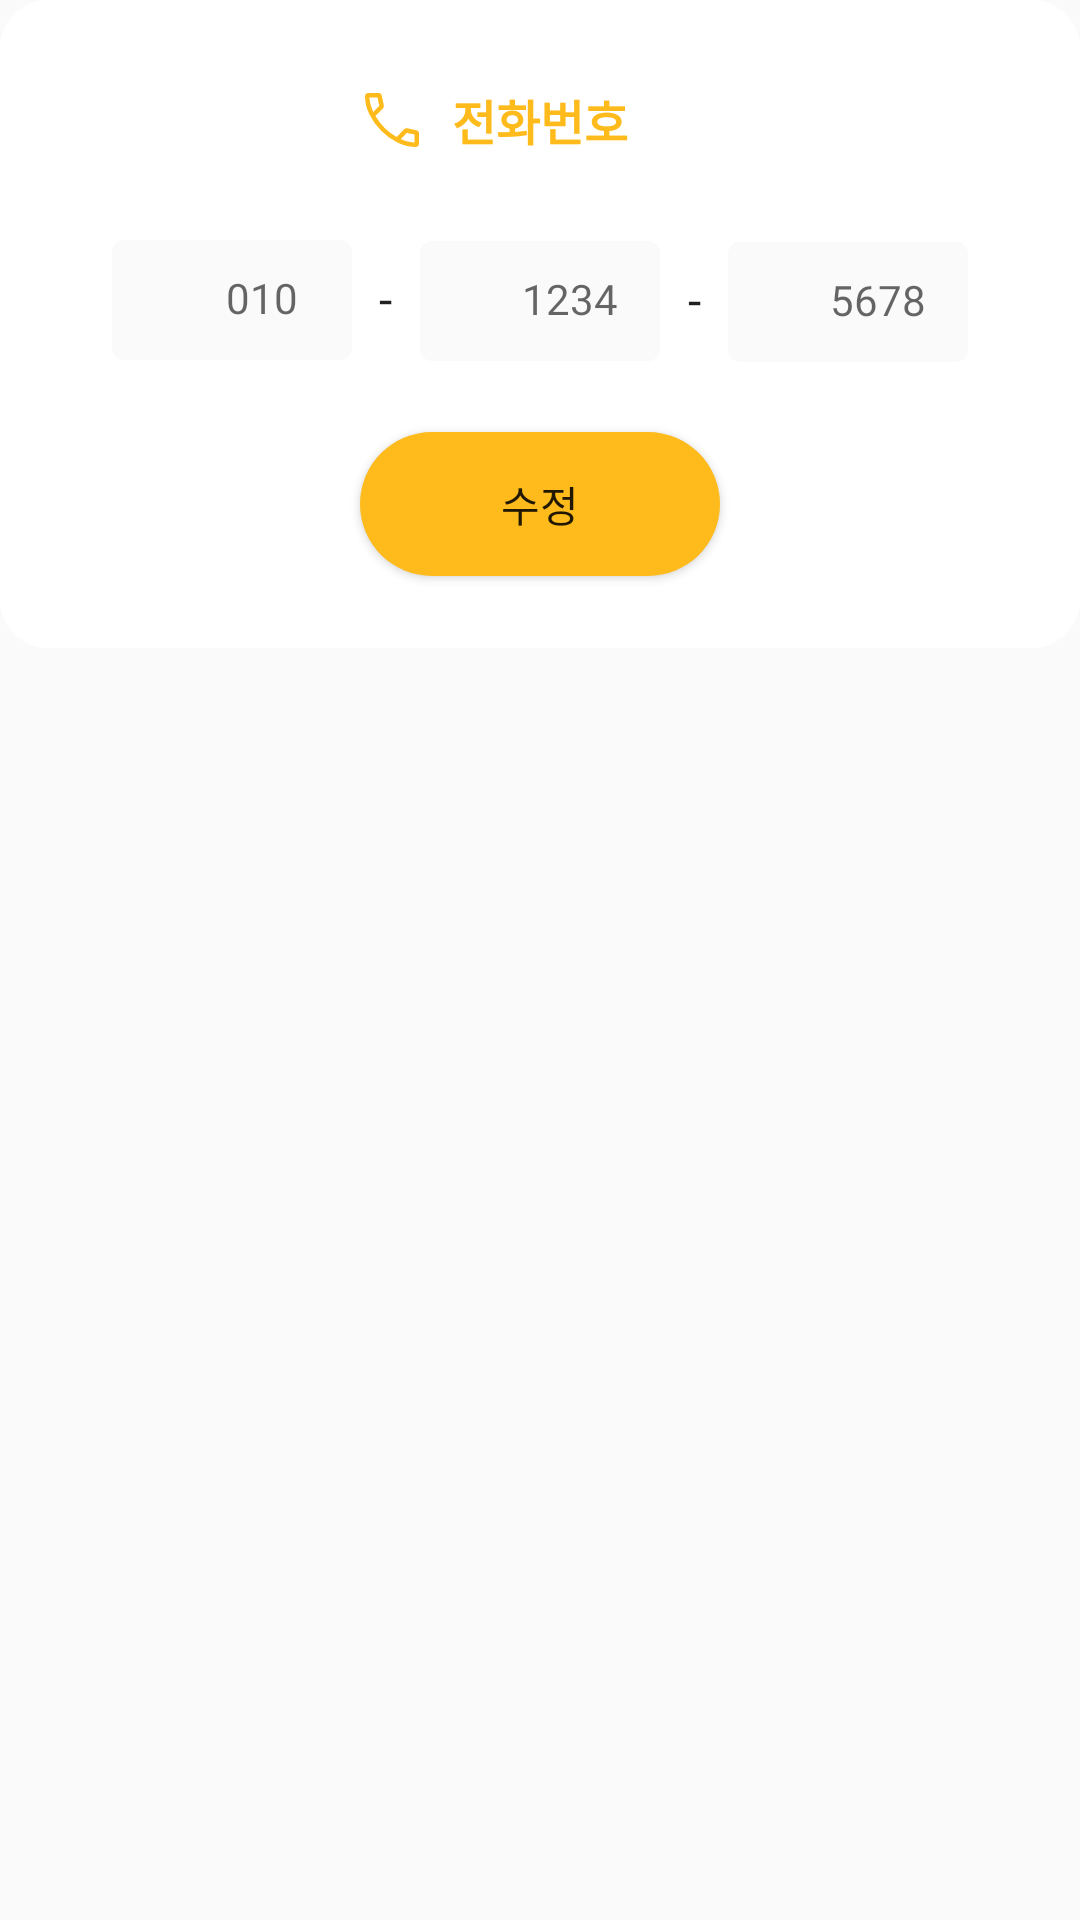

Where to tap for icons on this 1080×1920 app screen, as (x,y):
phone: (392,120)
